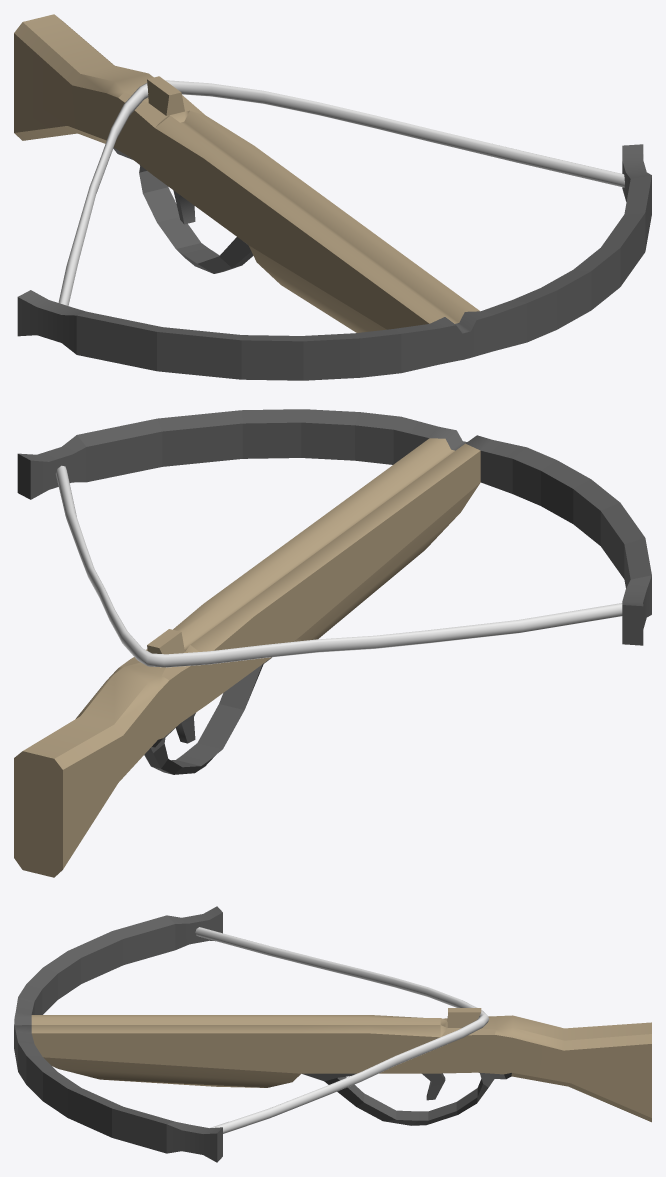
The model's file is Hero_Weapon_Crossbow_Empty.fbx.
3 renders of one model, top to bottom at view 1: azimuth 30°, elevation 25°; view 2: azimuth 150°, elevation 25°; view 3: azimuth 270°, elevation 25°, orthographic. The views are drawn at different scales.
Visible parts, largest first — view 1: polySurface2; view 2: polySurface2; view 3: polySurface2.
Boxes of the visible parts, x1=… form: polySurface2: x1=14, y1=14, x2=651, y2=380; polySurface2: x1=14, y1=409, x2=651, y2=877; polySurface2: x1=14, y1=906, x2=651, y2=1162.
Size of the model in its own units: 42.45 by 9.92 by 50.36.
